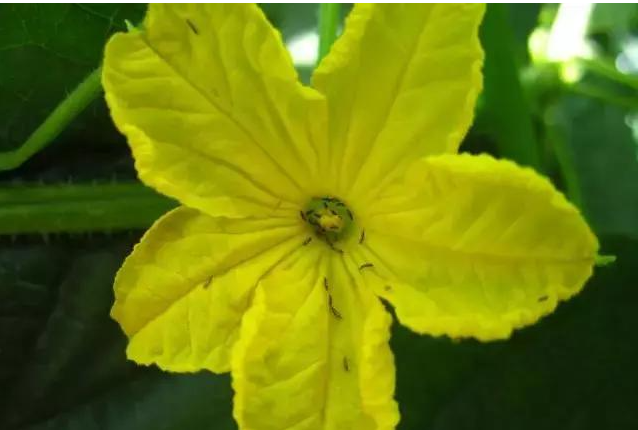thrips: (297, 194, 368, 254), (185, 16, 200, 36), (342, 353, 352, 373), (359, 260, 375, 272), (330, 306, 343, 320), (321, 274, 330, 292), (325, 293, 334, 307)
